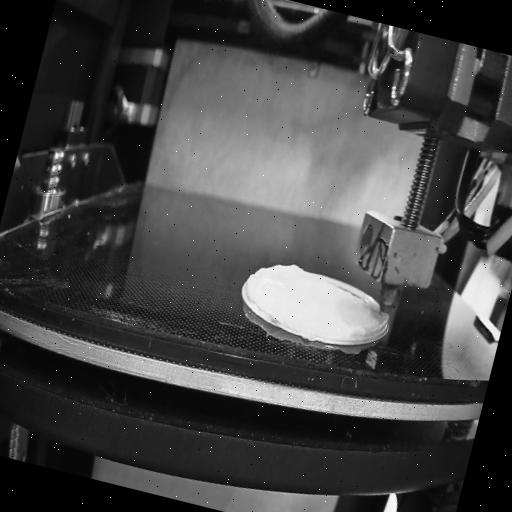over_extrusion: (240, 251, 304, 312), (361, 307, 391, 341)
